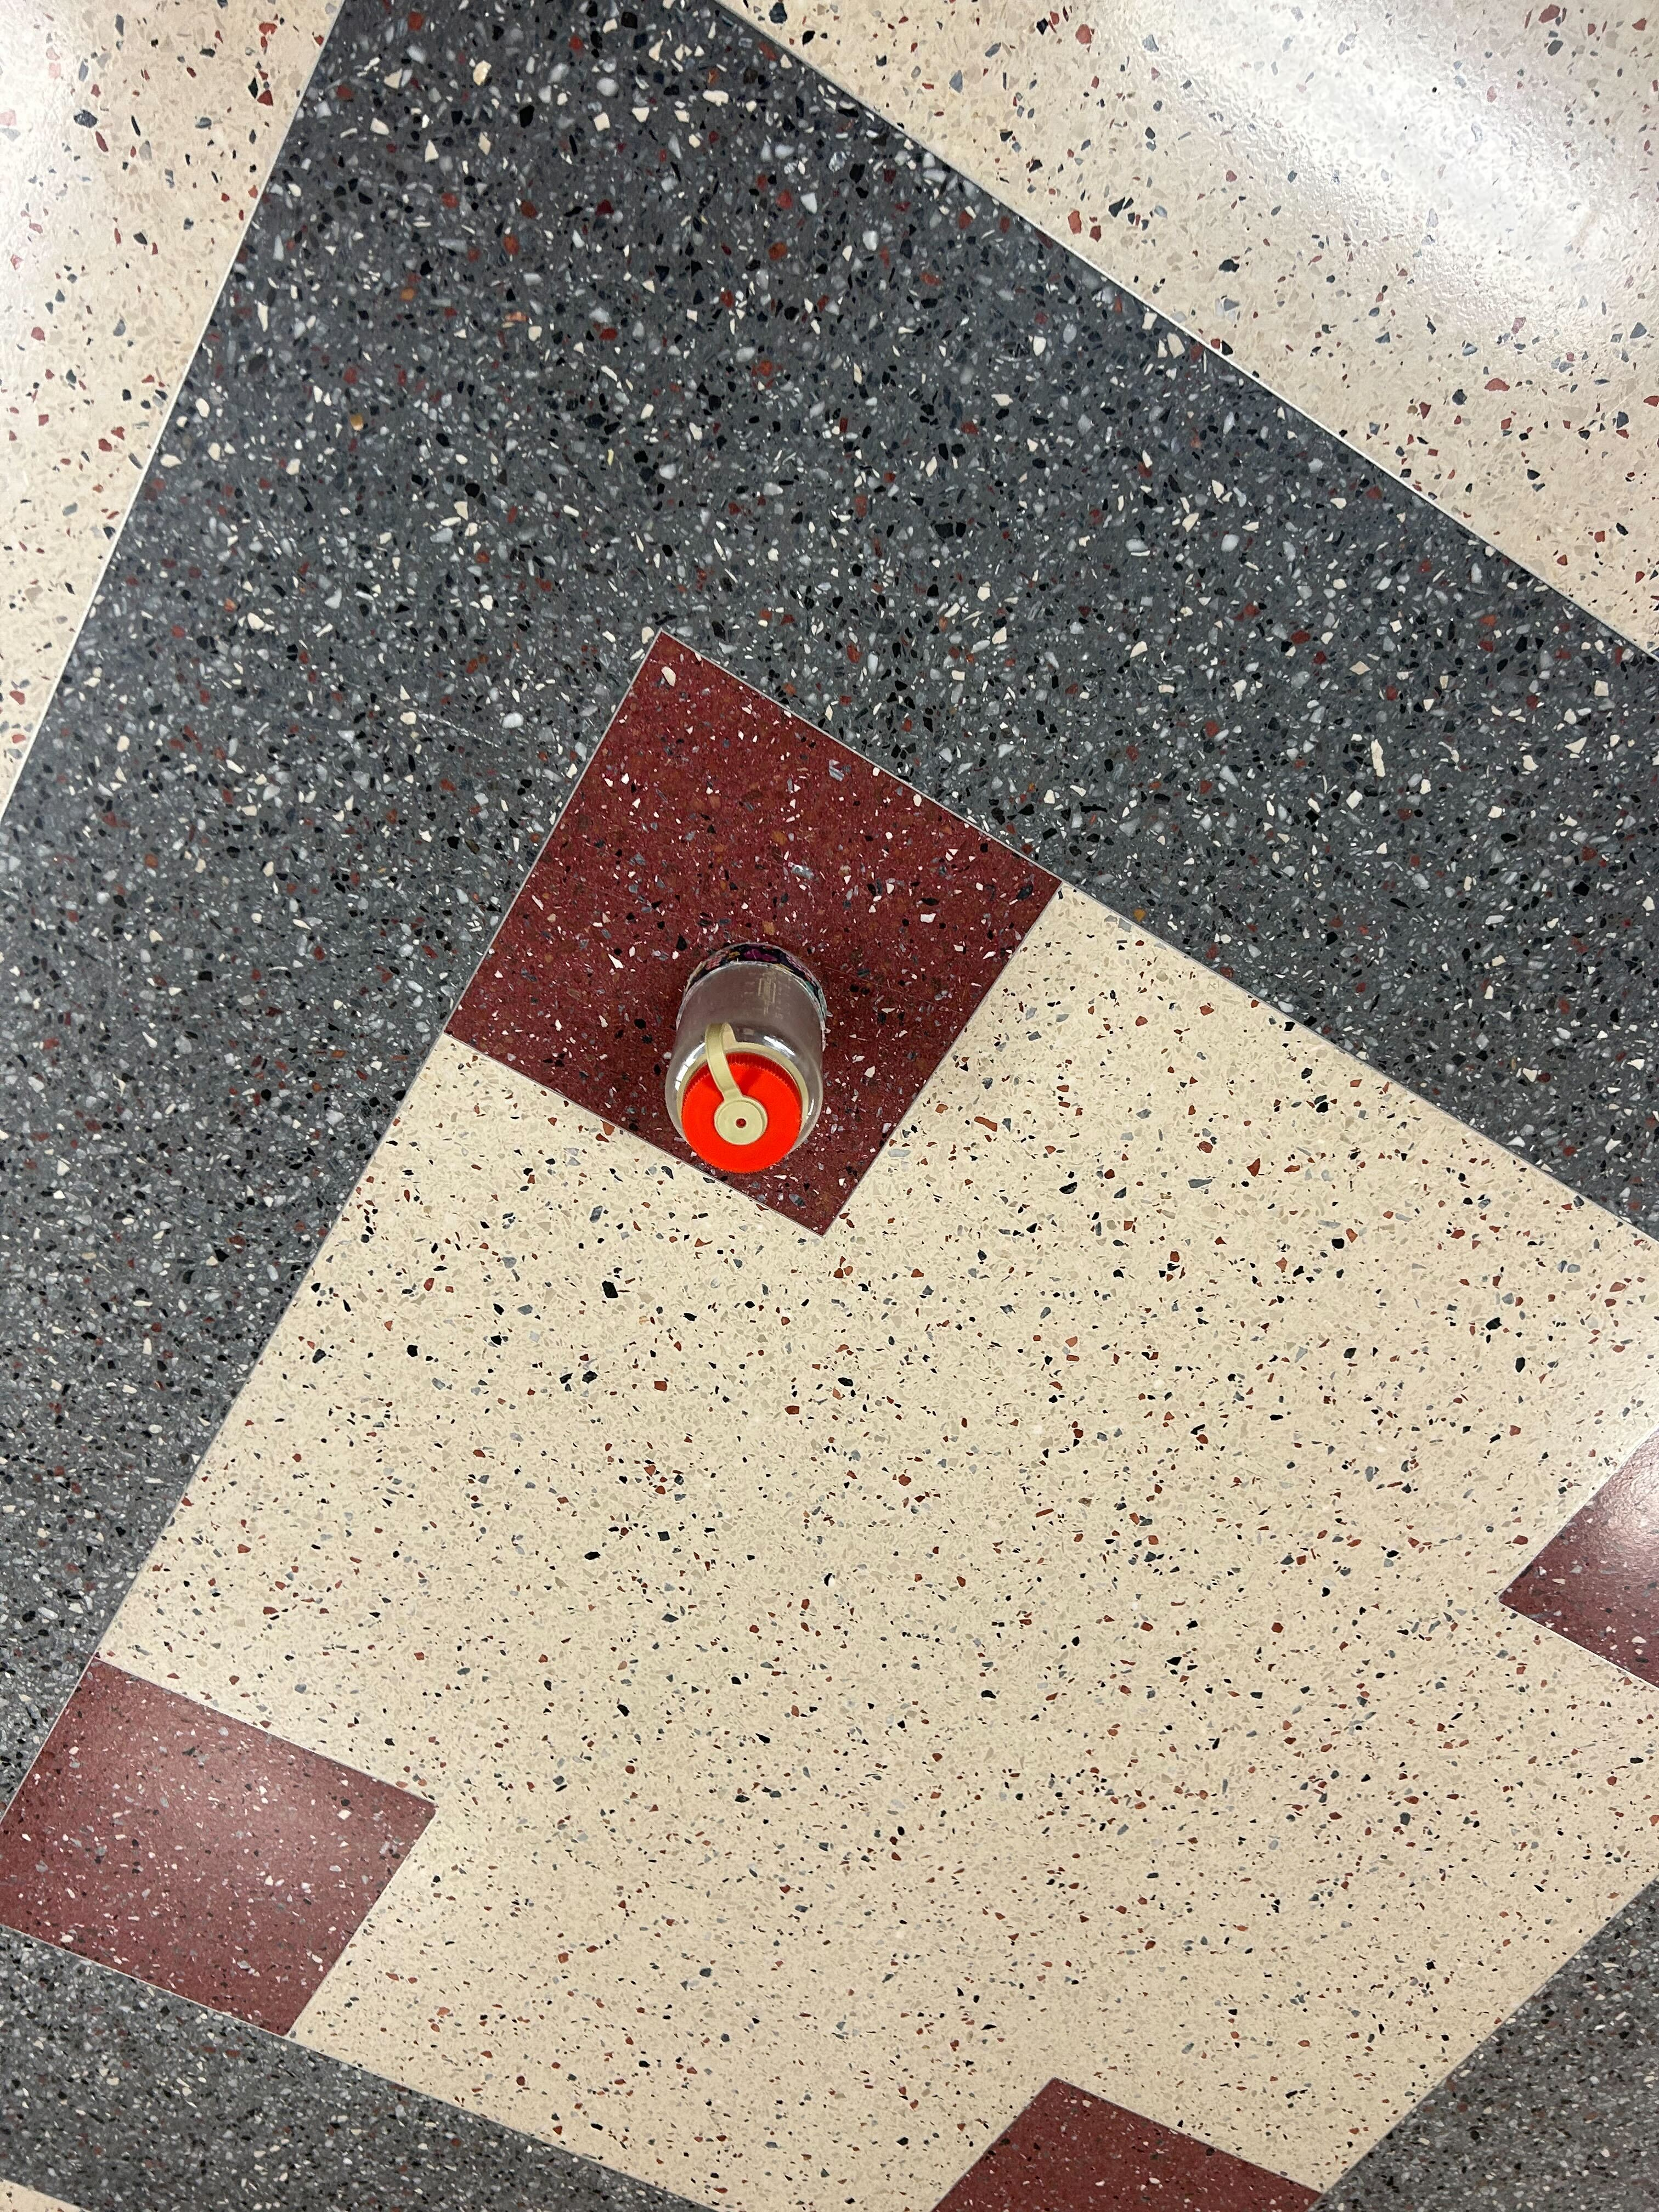bottle: (660, 935, 828, 1176)
